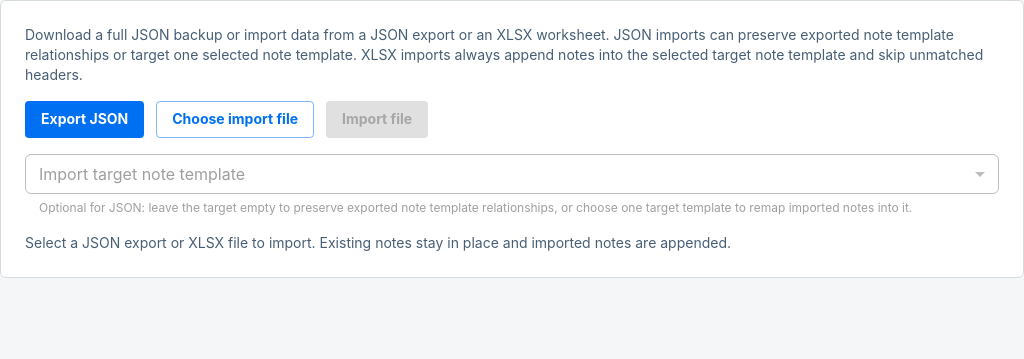
Test: ExportImportSection › exports app data and starts a JSON download
This screenshot has width=1024, height=359.
Click the button "Export JSON" at (85, 119), box [25, 101, 144, 138]
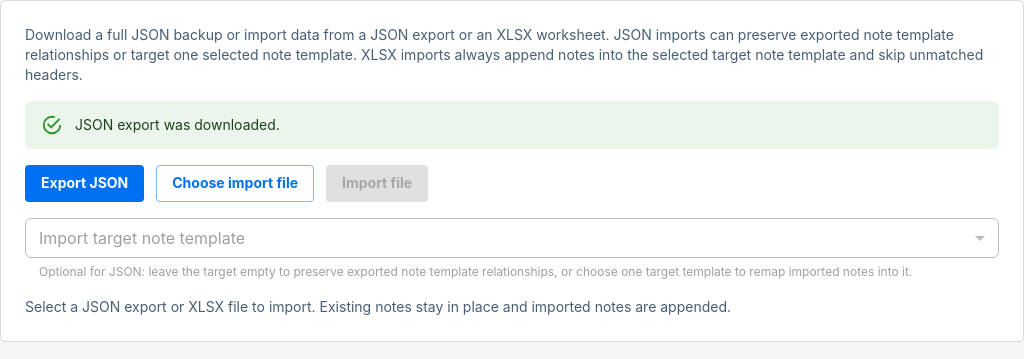
Now the text "JSON export was downloaded." is shown, box [75, 116, 280, 133]
